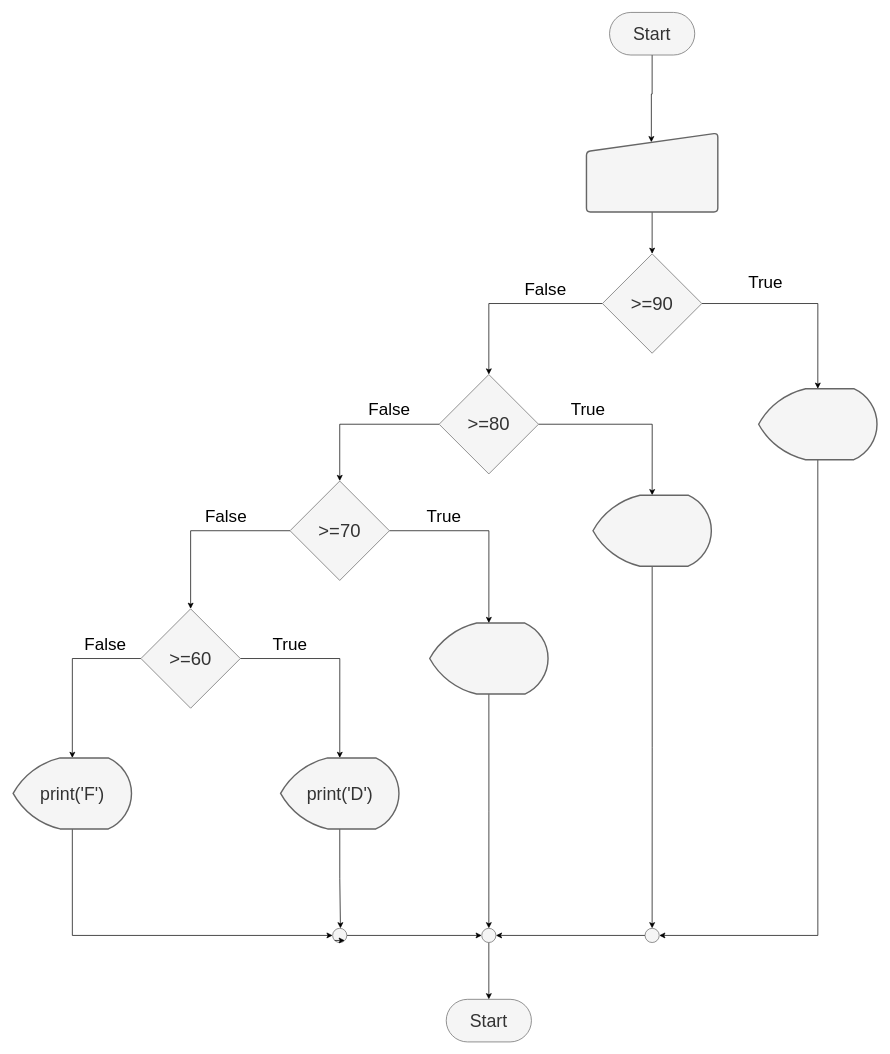
This 890x1054 diagram has some shape labels left out. The centre of each missing label's shape, as x and y in pixels:
"input Enter your test score score" goes at (651,172).
"print('A')" goes at (817,424).
"print('B')" goes at (652,530).
"print('C')" goes at (488,658).
